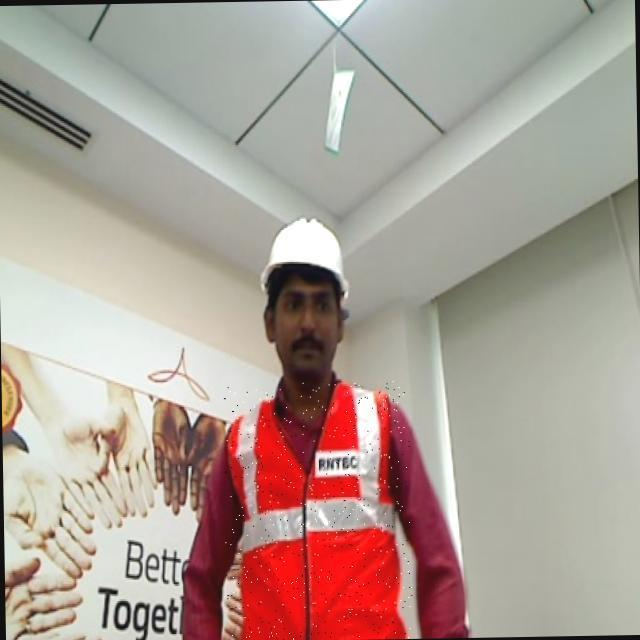helmet: (263, 209, 354, 307)
vest: (222, 379, 412, 640)
